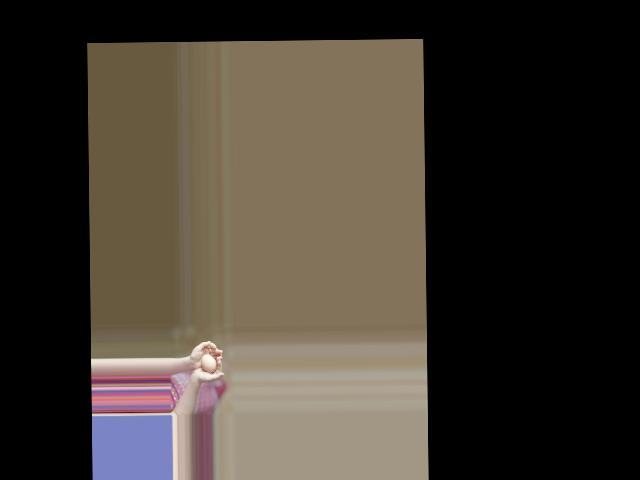egg: (201, 354, 217, 373)
